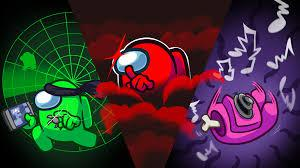amongus: (29, 81, 97, 151), (112, 38, 192, 92)
